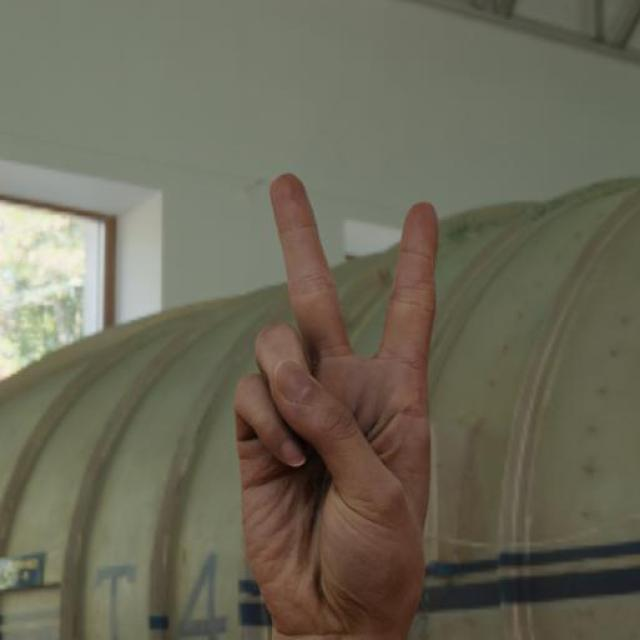V: (229, 169, 443, 626)
